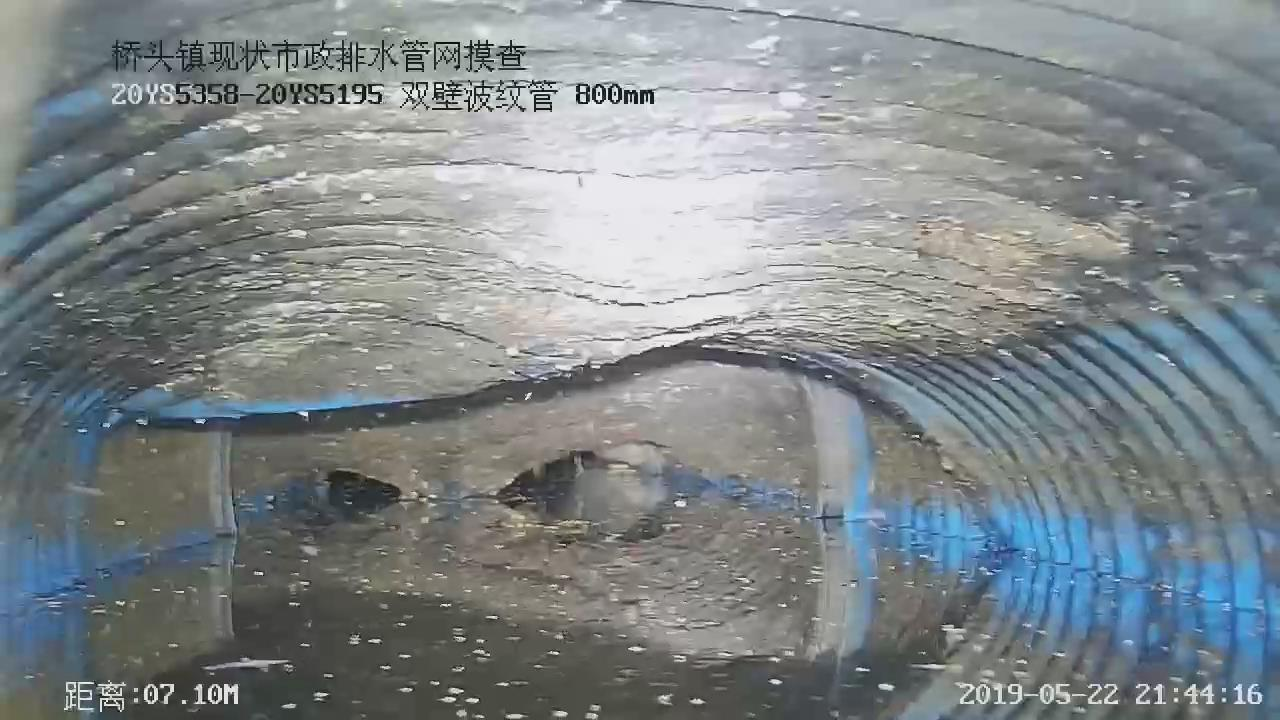BX: (89, 214, 1107, 430)
